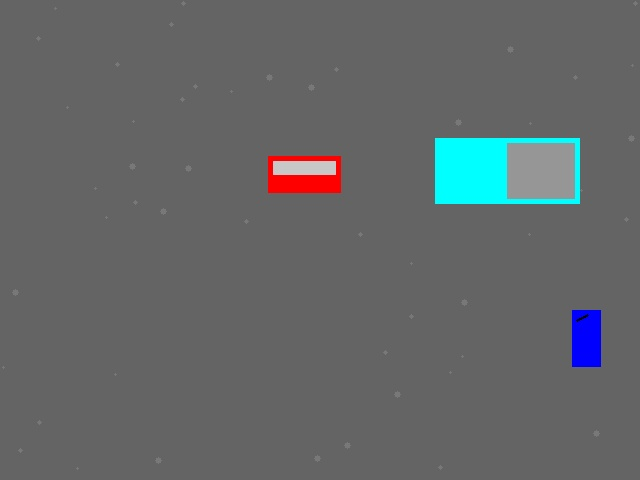car: (268, 156, 340, 192)
motorcycle: (572, 310, 600, 366)
truck: (435, 138, 579, 203)
